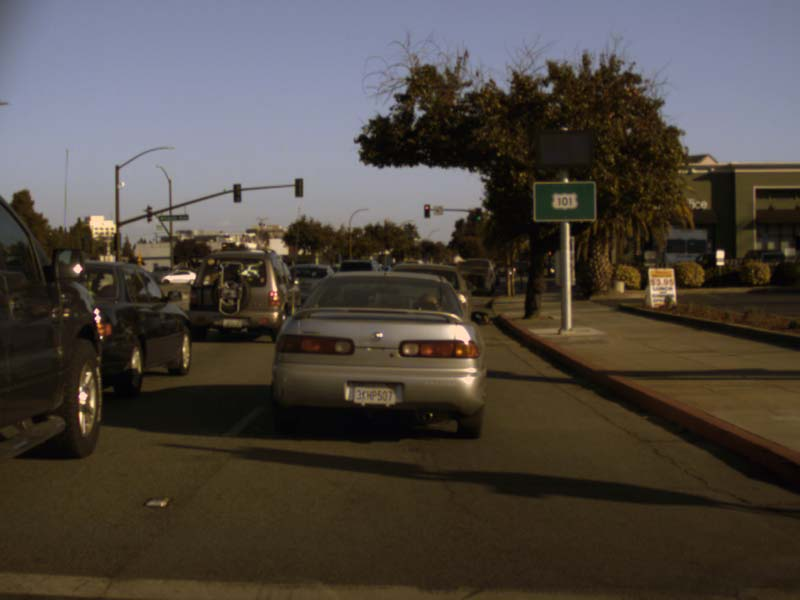Green: (475, 208, 481, 221)
Red: (423, 204, 430, 217)
